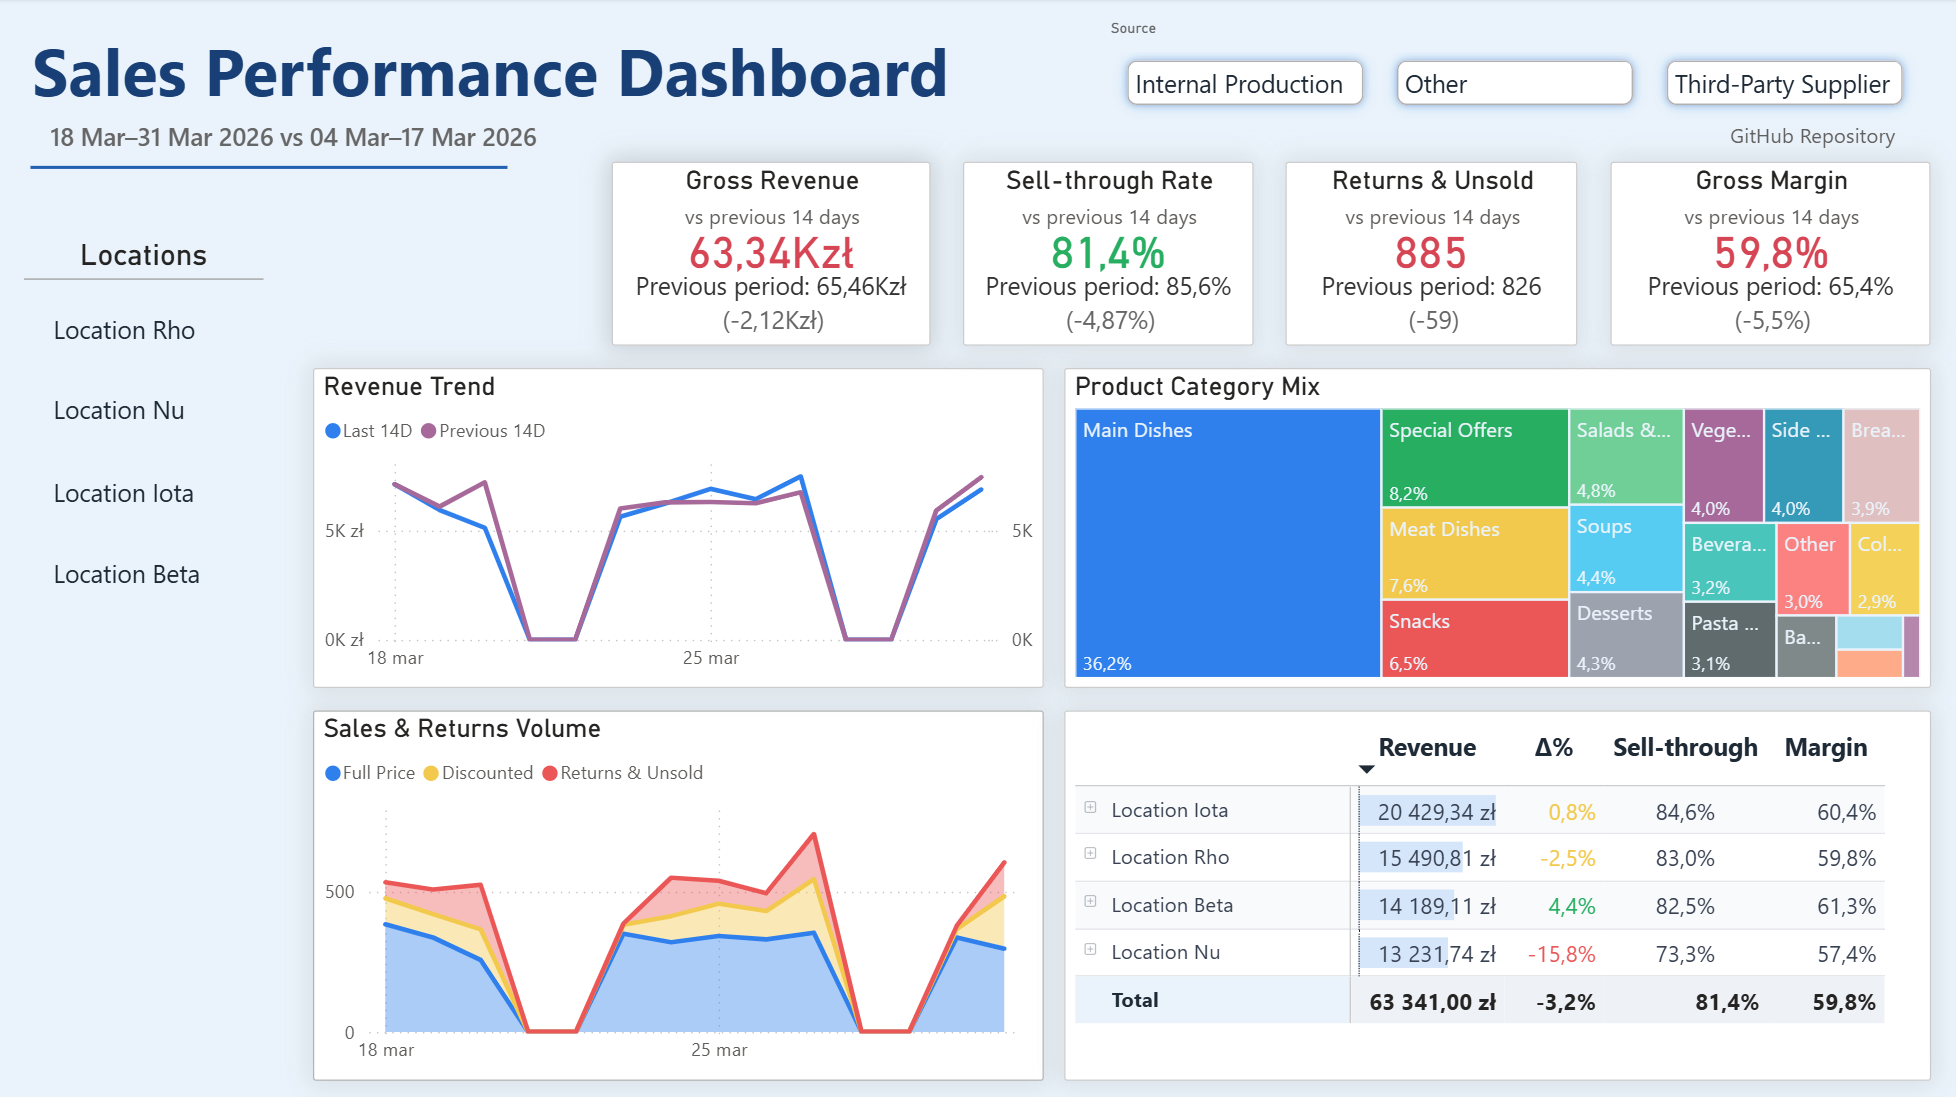

The page's visual inventory and layout, read from the dashboard file:
{"tool":"powerbi","page":{"name":"Page 1","canvas":[1280,720],"ordinal":0},"visuals":[{"type":"cardVisual","fields":{"Data":["_measures_time.Period Label"]},"box":[17.5,66.5,375.4,43.8],"z":0},{"type":"textbox","box":[17.5,13.1,622.2,69.1],"z":1000},{"type":"advancedSlicerVisual","title":"Source","fields":{"Values":["dim_product.source"]},"box":[721,13.1,539.9,69.1],"z":2000},{"type":"listSlicer","title":"Locations","fields":{"Values":["dim_spot.spot_name"]},"box":[17.5,156.6,155.8,251.1],"z":3000},{"type":"shape","box":[21,104.1,311.5,12.3],"z":4000},{"type":"treemap","title":"Product Category Mix","fields":{"Values":["_measures_time.Revenue Current Period"],"Group":["dim_product.product_type"]},"box":[695.7,241.5,565.3,209.1],"z":5000},{"type":"kpi","title":"Gross Revenue","fields":{"Indicator":["_measures_time.Revenue Current Period"],"Goal":["_measures_time.Revenue Previous Period"],"TrendLine":["dim_date.date"]},"box":[400.8,106.8,208.3,119.9],"z":6000},{"type":"stackedAreaChart","title":"Sales & Returns Volume","fields":{"Y":["_measures_base.Full Price Quantity","_measures_base.Discount Quantity","_measures_base.Total Returns + TGTG"],"Category":["dim_date.date"]},"box":[205.6,464.6,476.9,241.5],"z":7000},{"type":"lineChart","title":"Revenue Trend","fields":{"Category":["dim_date.date"],"Y":["_measures_base.Total Revenue"],"Y2":["_measures_time.Total Revenue Previous 14D"]},"box":[205.6,241.1,476.9,209.1],"z":8000},{"type":"kpi","title":"Sell-through Rate","fields":{"Indicator":["_measures_kpi.Sell-through % Current Period"],"Goal":["_measures_kpi.Sell-through % Previous Period"],"TrendLine":["dim_date.date"]},"box":[630,106.8,189.9,119.9],"z":9000},{"type":"pivotTable","fields":{"Rows":["dim_spot.spot_name","dim_product.product_type"],"Values":["_measures_time.Revenue Current Period","_measures_delta.Revenue Delta %","_measures_kpi.Sell-through % Current Period","_measures_kpi.Gross Margin % Current Period"]},"box":[695.7,464.6,565.3,241.5],"z":10000},{"type":"kpi","title":"Returns & Unsold","fields":{"Indicator":["_measures_time.Total Returns + TGTG Current Period"],"Goal":["_measures_time.Total Returns + TGTG Previous Period"],"TrendLine":["dim_date.date"]},"box":[840,106.8,190.8,119.9],"z":11000},{"type":"kpi","title":"Gross Margin","fields":{"Indicator":["_measures_kpi.Gross Margin % Current Period"],"Goal":["_measures_kpi.Gross Margin % Previous Period"],"TrendLine":["dim_date.date"]},"box":[1051.8,106.8,209.1,119.9],"z":12000},{"type":"actionButton","title":"GitHub Repository","box":[1107.8,68.3,153.1,42],"z":13000}]}

Visuals, with their boxes in screenshot pixels (x1, y1, x2, y2), scaled from the page's 1280x720 canvas onto the 1956x1097 screenshot:
cardVisual - _measures_time.Period Label: [27, 101, 600, 168]
textbox: [27, 20, 978, 125]
"Source" advancedSlicerVisual: [1102, 20, 1927, 125]
"Locations" listSlicer: [27, 239, 265, 621]
shape: [32, 159, 508, 177]
"Product Category Mix" treemap: [1063, 368, 1927, 687]
"Gross Revenue" kpi: [612, 163, 931, 345]
"Sales & Returns Volume" stackedAreaChart: [314, 708, 1043, 1076]
"Revenue Trend" lineChart: [314, 367, 1043, 686]
"Sell-through Rate" kpi: [963, 163, 1253, 345]
pivotTable - dim_spot.spot_name x dim_product.product_type: [1063, 708, 1927, 1076]
"Returns & Unsold" kpi: [1284, 163, 1575, 345]
"Gross Margin" kpi: [1607, 163, 1927, 345]
"GitHub Repository" actionButton: [1693, 104, 1927, 168]
